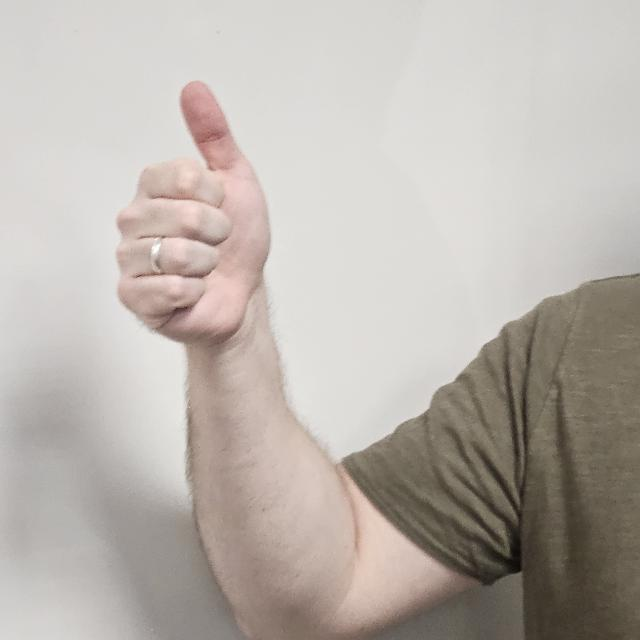Start: (114, 82, 288, 340)
